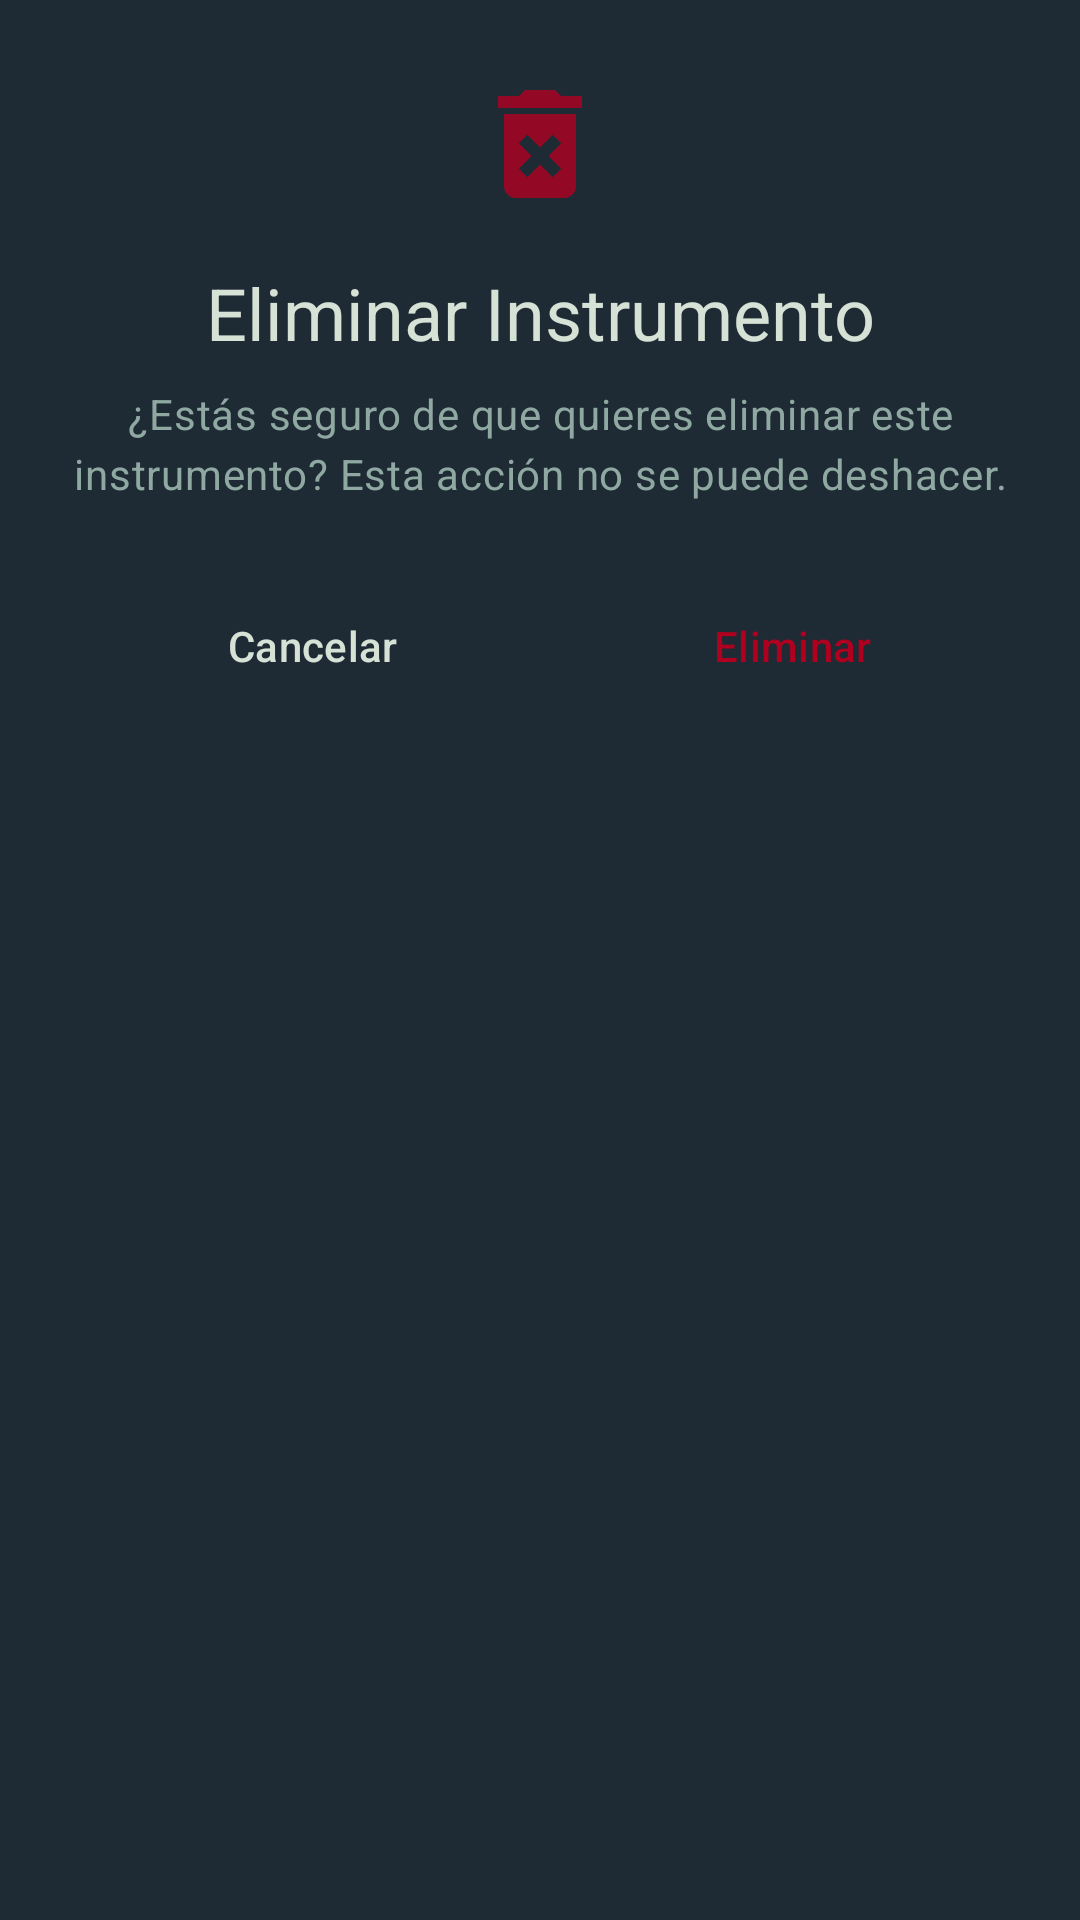

Named icons in this screenshot (1080w x 1920h) and their bounding boxes, (x1, y1, x2, y2):
delete forever: (498, 90, 582, 198)
